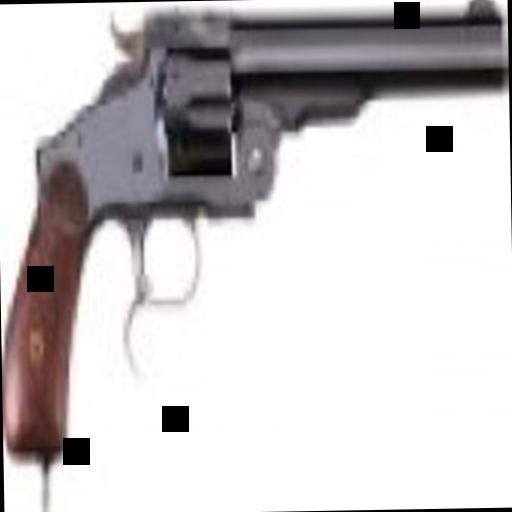Handgun: (0, 0, 504, 459)
